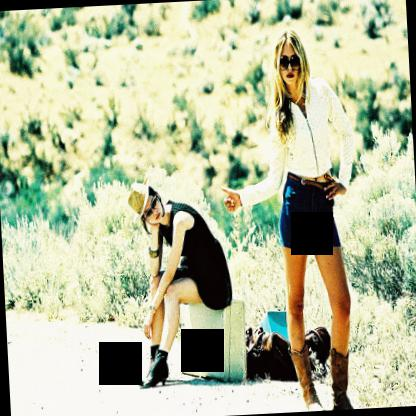handbag: (270, 333, 300, 382), (242, 327, 264, 377)
suitcase: (181, 301, 244, 381)
